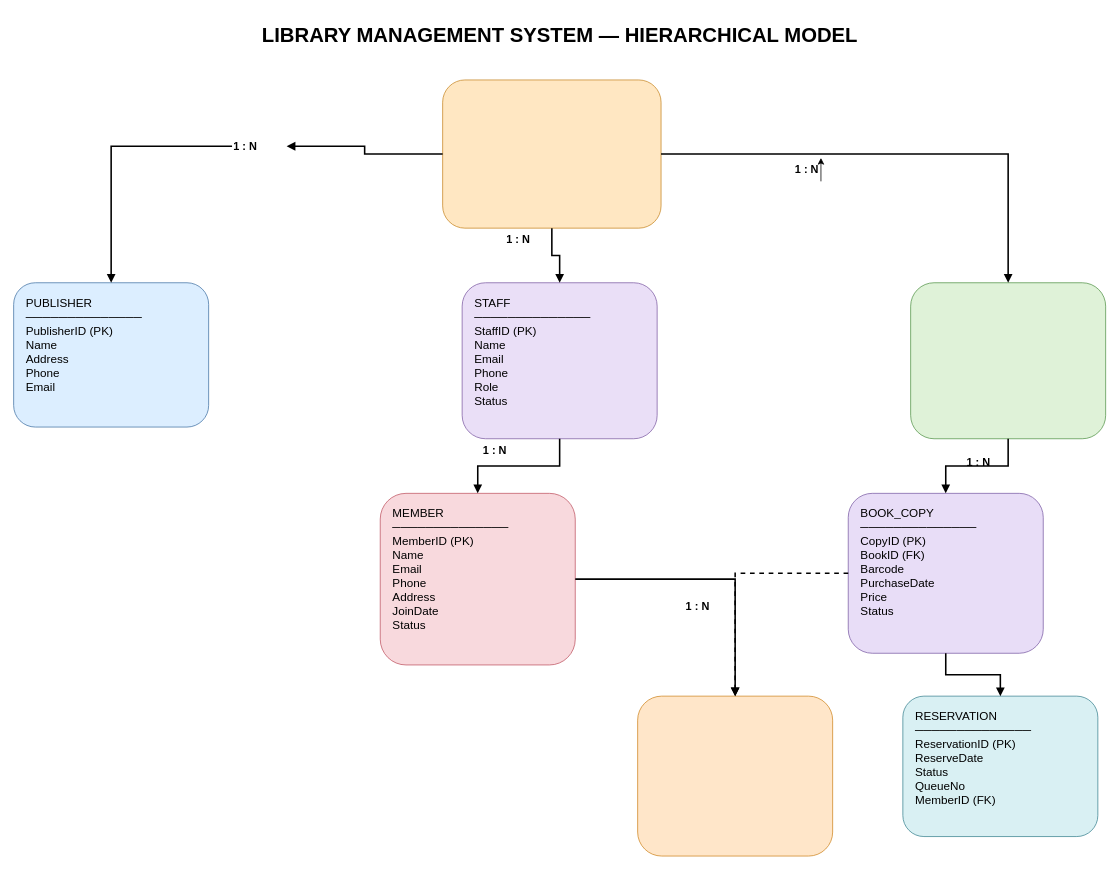
Some shapes in this 1119 by 870 pixel diagram are drawn without their labels. Each missing label, with the box of its shape:
BOOK ────────────── BookID (PK) ISBN Title Author Category PublisherYear: (910, 282, 1106, 439)
LIBRARY ────────────── LibraryID (PK) Name Address Phone Email: (442, 79, 661, 228)
LOAN ────────────── LoanID (PK) IssueDate DueDate ReturnDate Status FineAmount: (637, 695, 833, 856)
